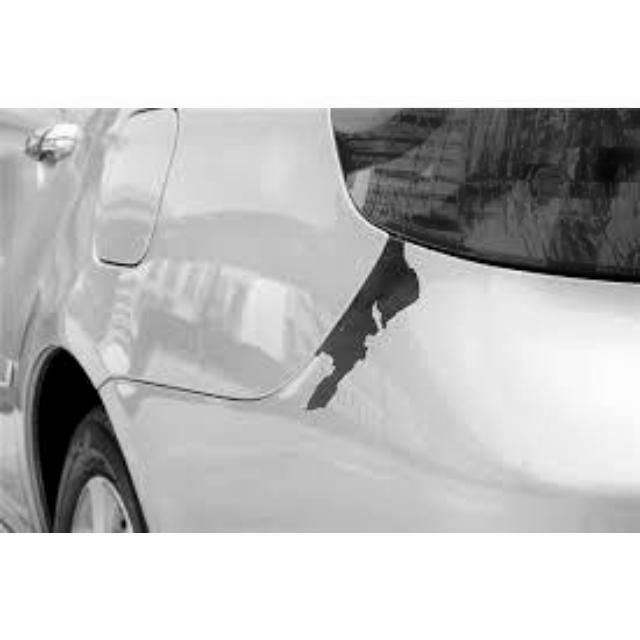rear-bumper-dent: (101, 322, 638, 531)
